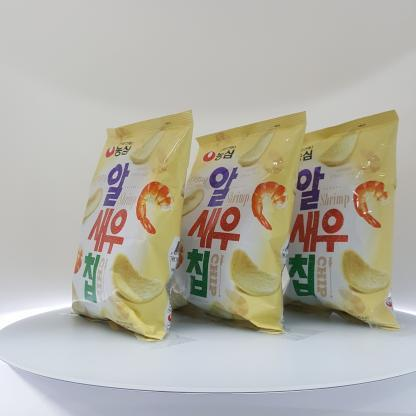Plastic Packaging: (68, 100, 196, 352), (195, 99, 310, 337), (308, 105, 400, 332)
